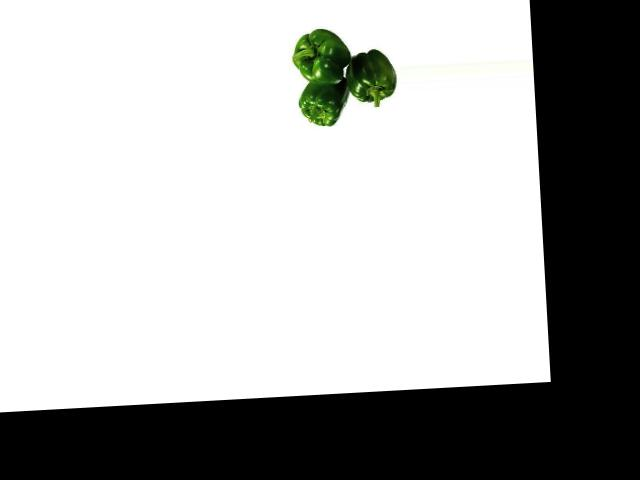bell_pepper: (286, 22, 351, 88)
